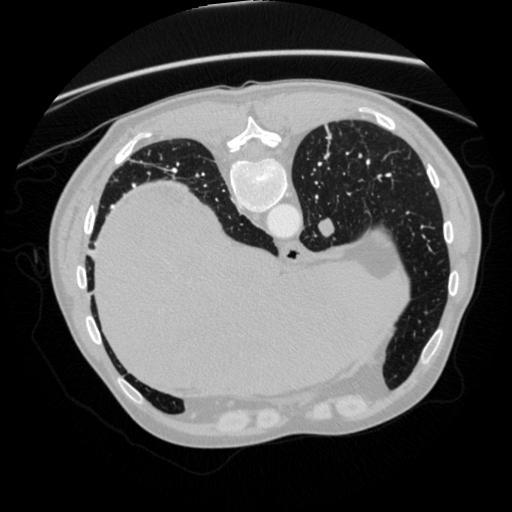nodule: (314, 218, 337, 241)
